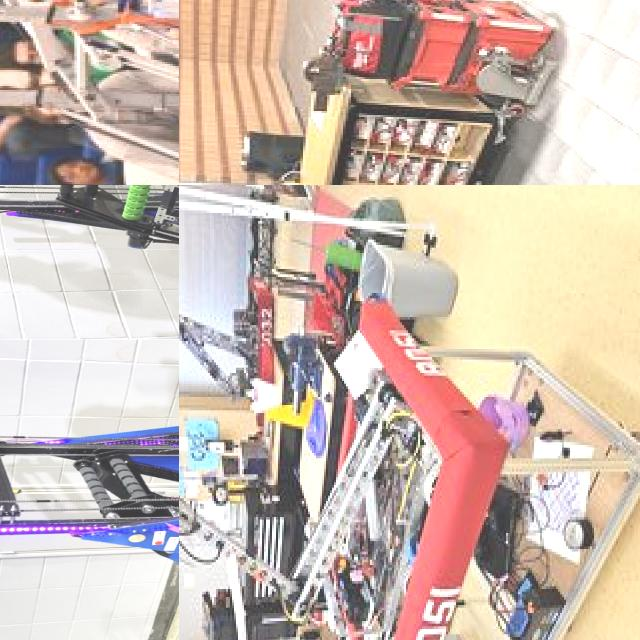FRC-Robots: (179, 235, 500, 640), (0, 346, 179, 640), (0, 0, 179, 185), (0, 185, 179, 315)
